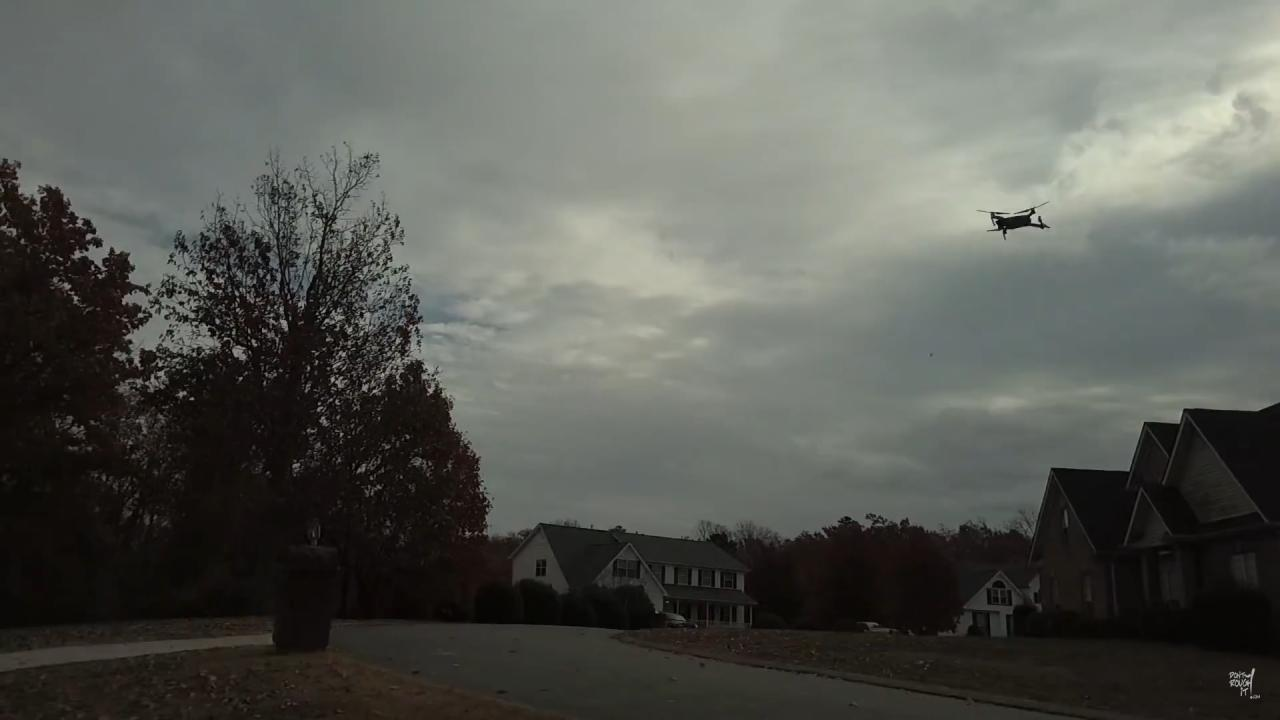Drone: (971, 195, 1058, 245)
